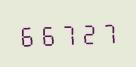seven: (98, 18, 117, 45), (58, 20, 77, 46)
six: (18, 21, 37, 48), (38, 21, 57, 47)
two: (78, 19, 97, 45)
